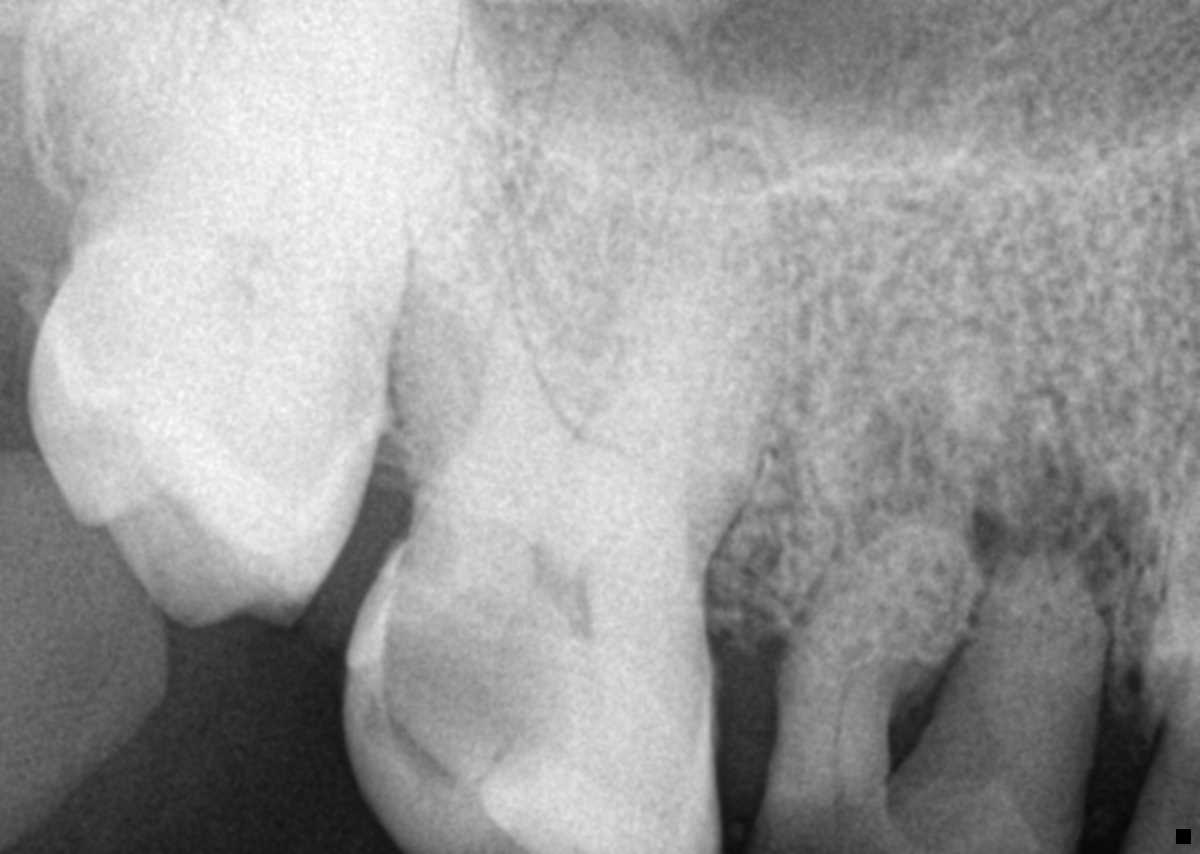Apical Lesion: (976, 394, 1165, 608), (850, 394, 987, 541), (538, 0, 685, 43)
Distal Root: (369, 85, 562, 486), (776, 523, 984, 730)
Mesial Root: (571, 147, 790, 560), (941, 547, 1111, 751)
Palatal Root: (458, 24, 718, 522)
decay: (381, 504, 551, 790)
